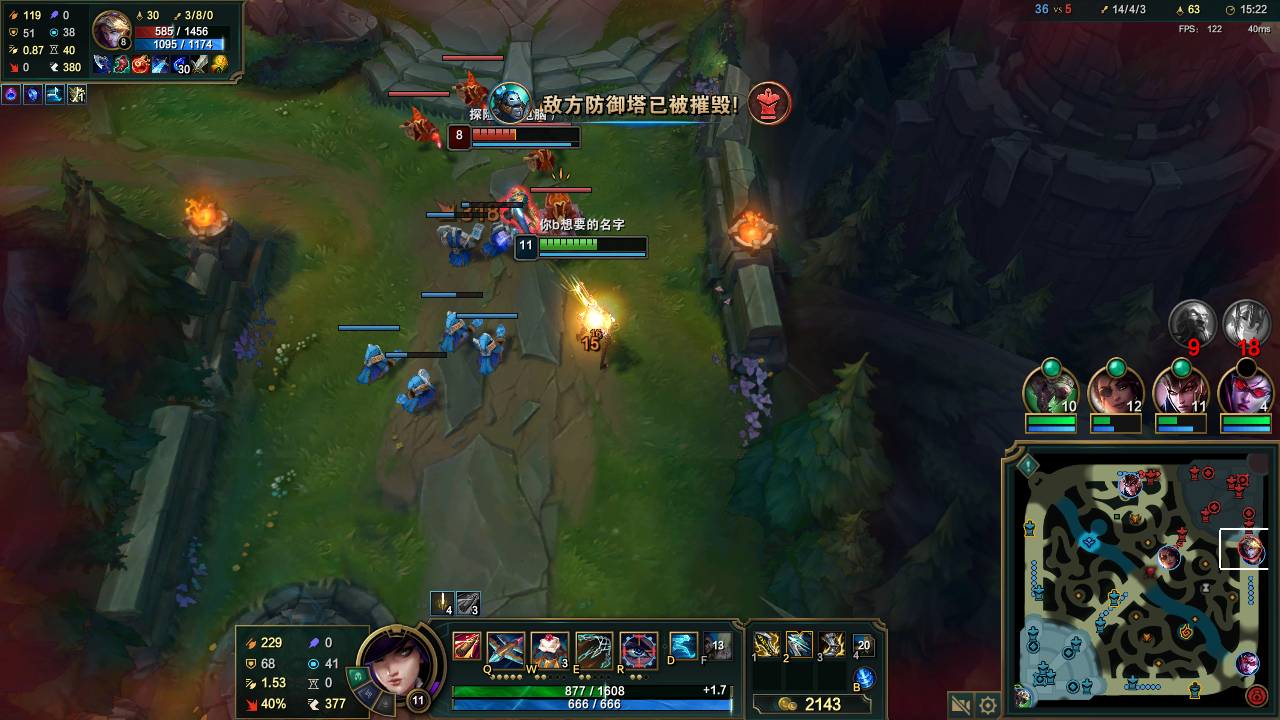DFXB: (402, 109, 441, 144), (539, 192, 576, 228), (454, 76, 487, 104), (524, 149, 557, 170)
DFYX: (470, 129, 576, 143)
WFXB: (355, 339, 393, 384), (401, 369, 438, 412), (442, 307, 475, 347), (469, 328, 503, 364), (443, 228, 473, 257), (480, 222, 507, 254)
